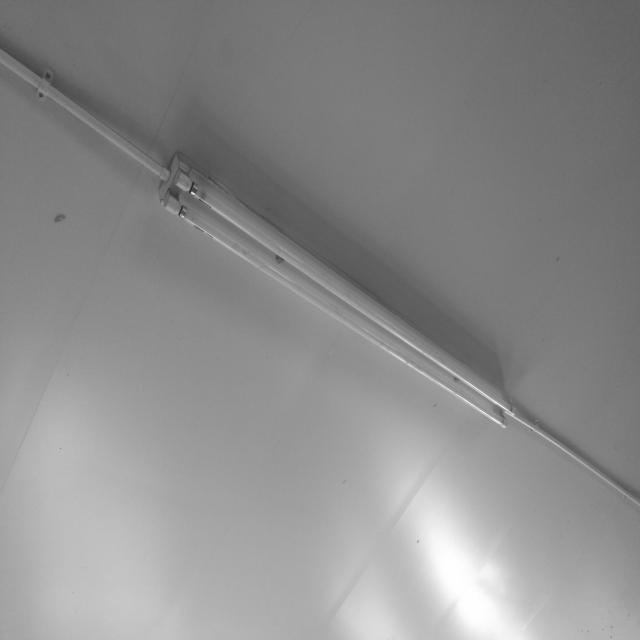light: (157, 149, 513, 430)
